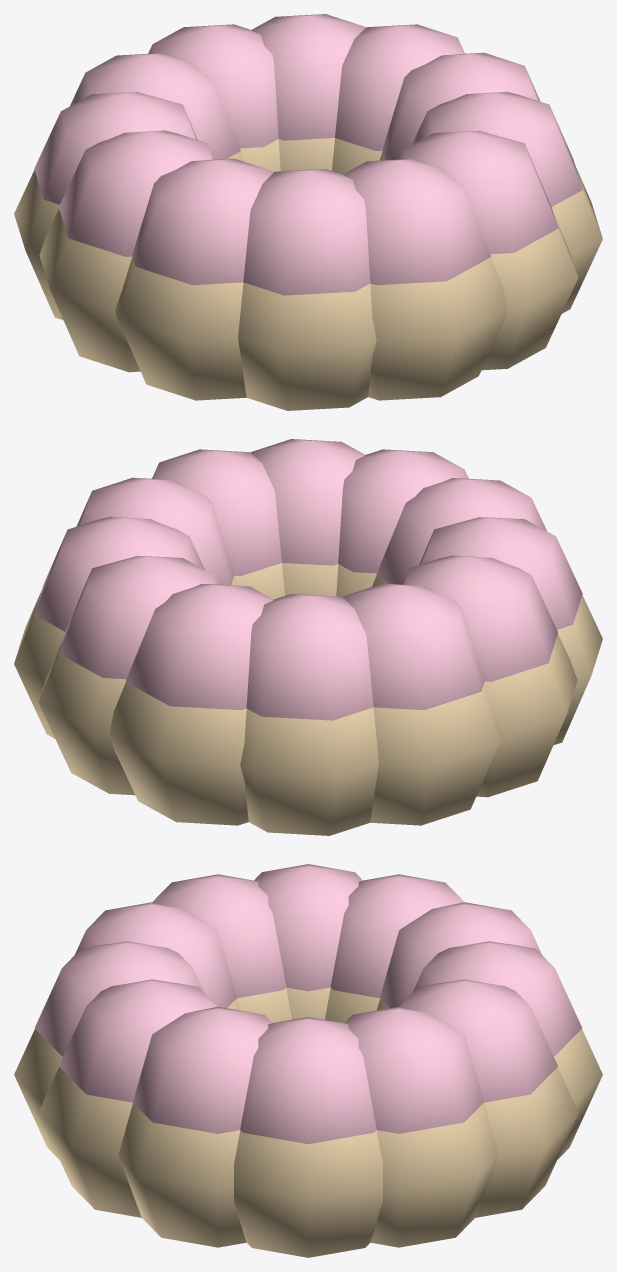
Rendered from SM_Donut.fbx.
3 renders of one model, top to bottom at view 1: azimuth 30°, elevation 25°; view 2: azimuth 150°, elevation 25°; view 3: azimuth 270°, elevation 25°, orthographic.
Parts seen in each view (by area): view 1: SM_Donut; view 2: SM_Donut; view 3: SM_Donut.
Part boxes in pixels (left/top/right/bottom): SM_Donut: left=14, top=14, right=602, bottom=410; SM_Donut: left=14, top=439, right=602, bottom=835; SM_Donut: left=14, top=864, right=602, bottom=1257.
Size of the model in its own units: 0.114 by 0.05 by 0.114.
